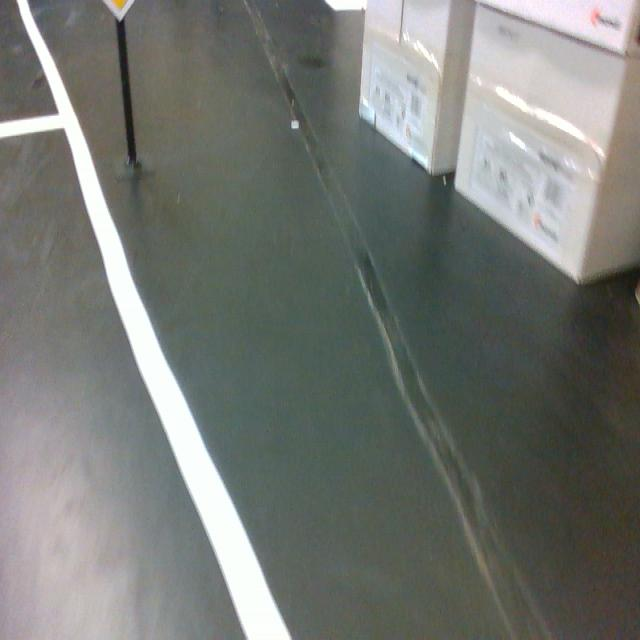priority-sign: (101, 0, 136, 23)
